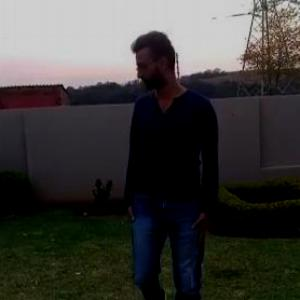follow: (118, 23, 226, 299)
